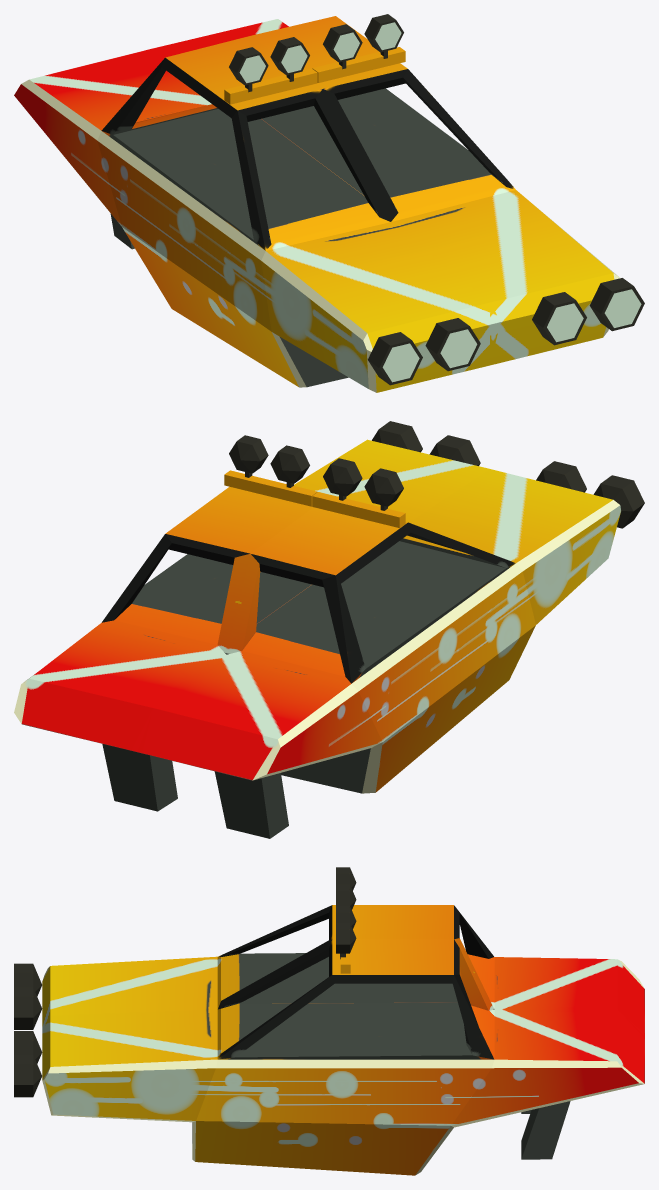
File: Mesh_Car_Body.fbx
The picture shows the model from 3 angles, top to bottom: view 1: azimuth 30°, elevation 25°; view 2: azimuth 150°, elevation 25°; view 3: azimuth 270°, elevation 25°; orthographic projection. The views are drawn at different scales.
Visible parts, largest first — view 1: Cube; view 2: Cube; view 3: Cube.
Boxes of the visible parts, x1,y1,x2,y2 form: Cube: [14, 14, 644, 392]; Cube: [14, 421, 644, 838]; Cube: [14, 867, 644, 1175].
Size of the model in its own units: 170 by 172 by 415.
